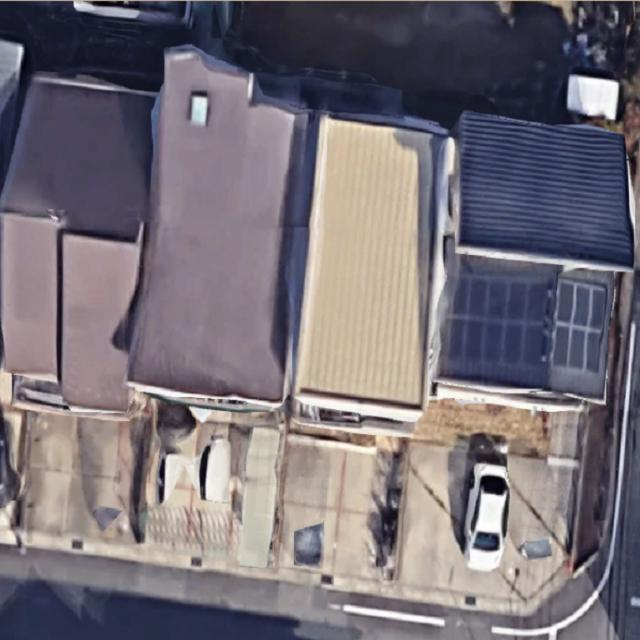Batiment: (128, 47, 312, 403), (435, 112, 634, 411), (0, 75, 155, 413), (295, 115, 434, 409)
